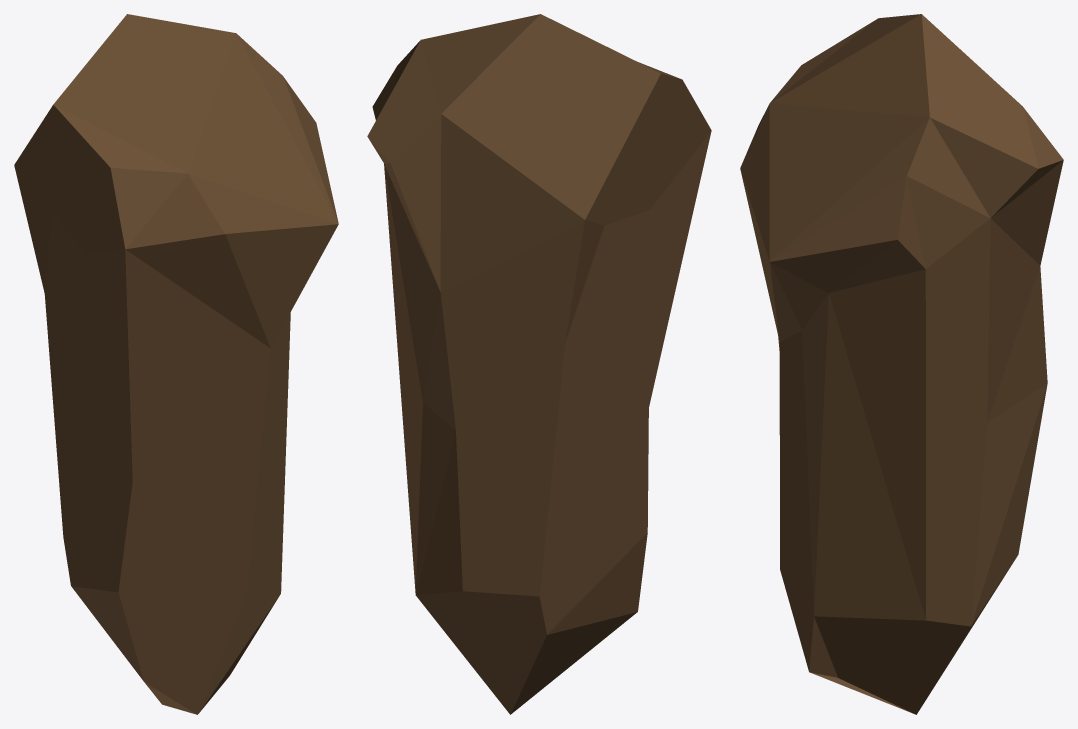
The model's file is Roca.obj.
3 views of the same model, side by side, from view 1: azimuth 30°, elevation 25°; view 2: azimuth 150°, elevation 25°; view 3: azimuth 270°, elevation 25° (orthographic). The views are drawn at different scales.
Visible parts, largest first — view 1: Cube; view 2: Cube; view 3: Cube.
Part boxes in pixels (x1,y1,x2,y2): Cube: [14, 14, 338, 714]; Cube: [367, 14, 711, 714]; Cube: [740, 14, 1063, 714].
Bounding box in the file's own units: 3.37 × 8.22 × 3.52.
Materials: 1 (1 with a texture image).
